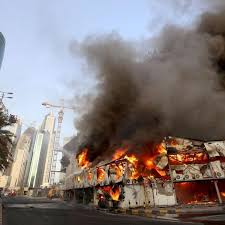smoke: (90, 36, 225, 142)
